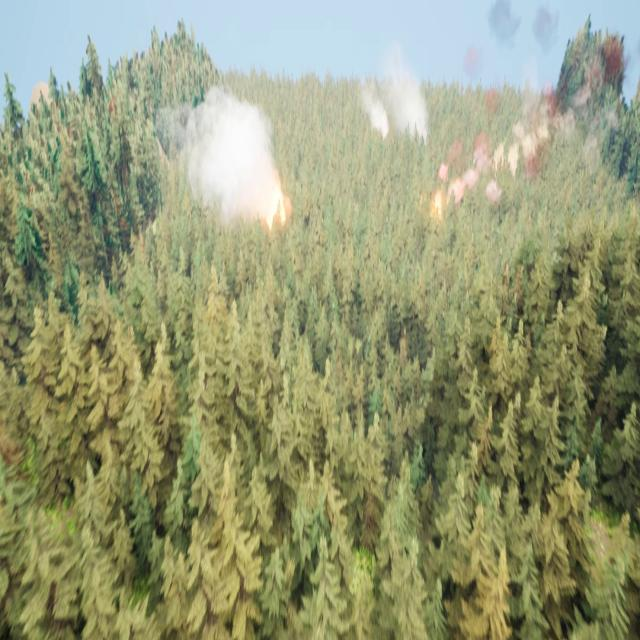fire: (263, 181, 295, 234), (430, 181, 450, 219)
smoke: (162, 98, 282, 230), (447, 98, 552, 196), (355, 49, 435, 150)
